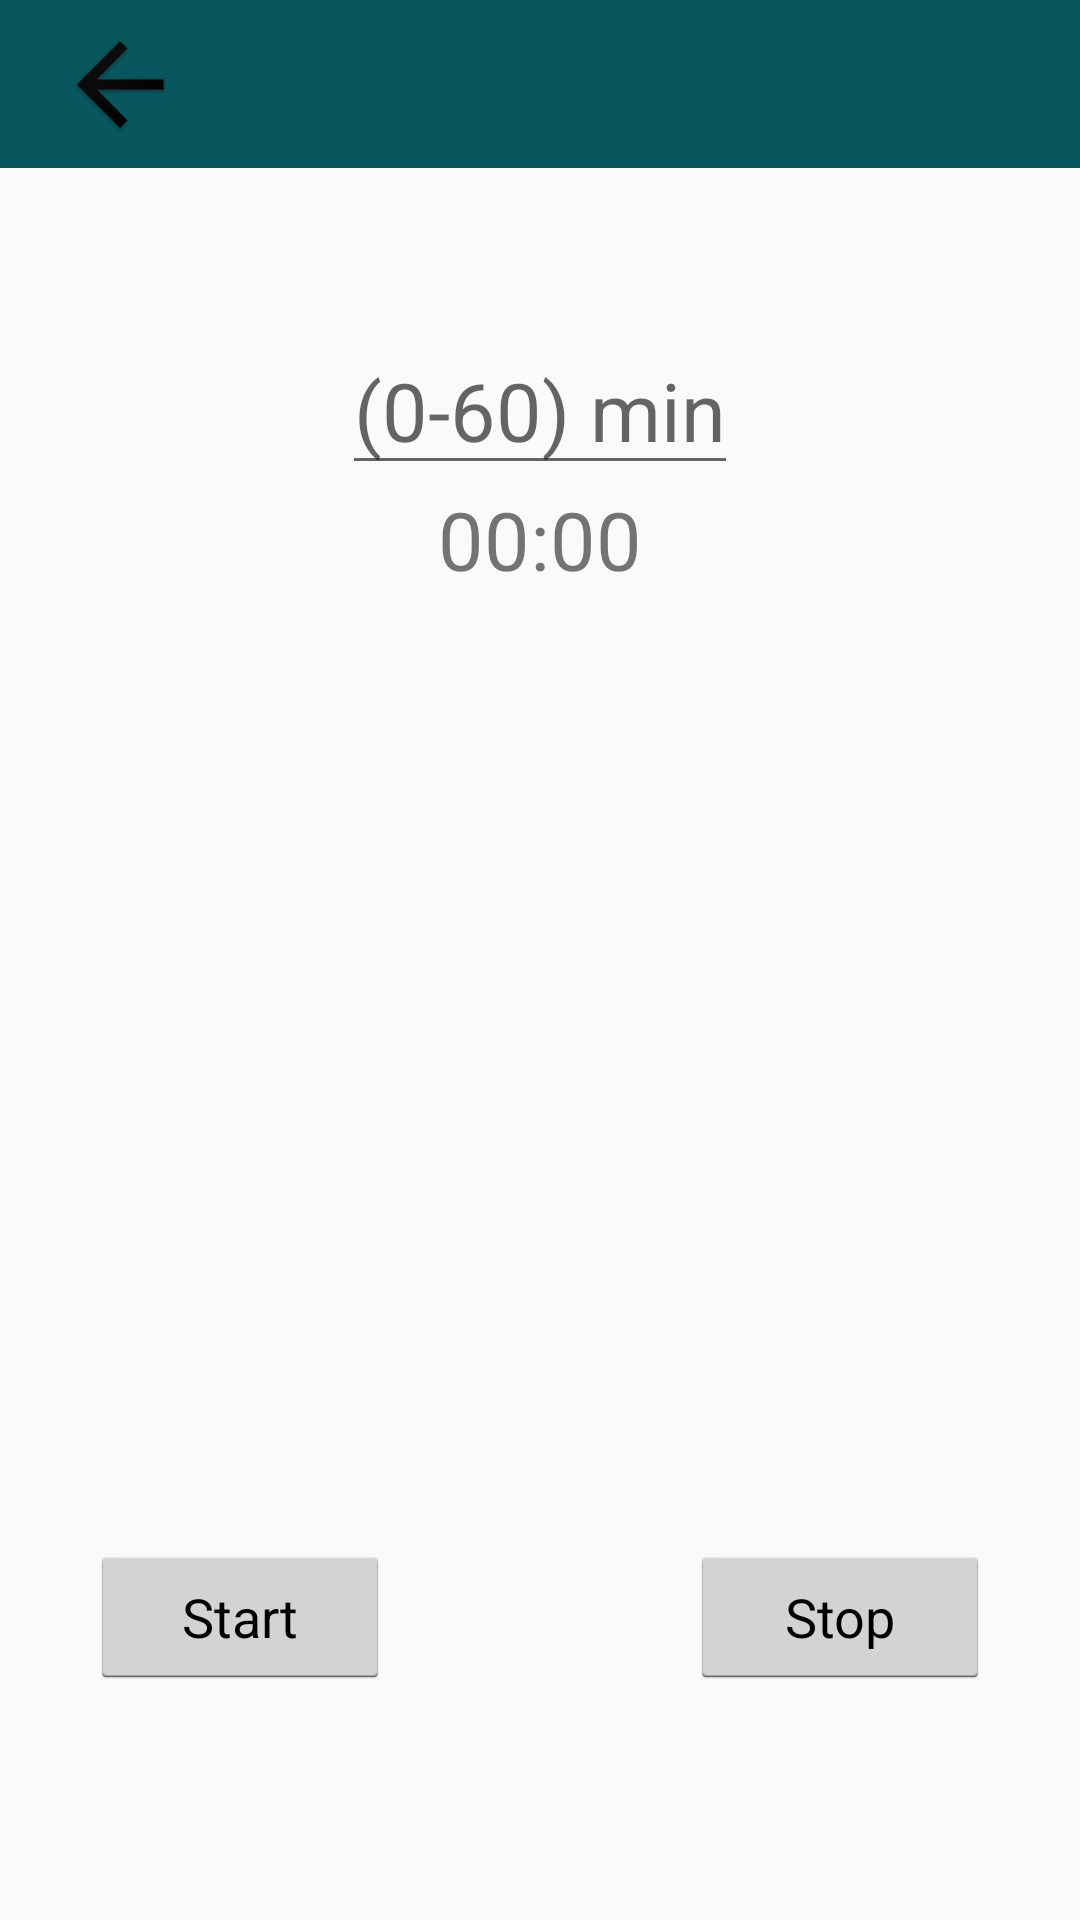

Locate icon controls on the screen. Image size 1080*1920, boxes as (x1, y1, x2, y2).
back: (77, 41, 164, 128)
